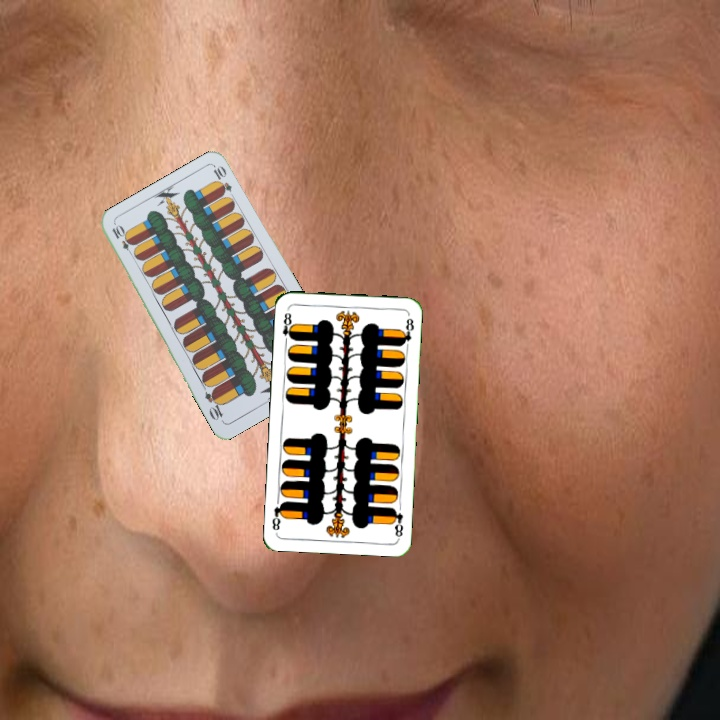E10: (108, 221, 137, 259)
E8: (279, 309, 296, 346), (388, 503, 405, 540)
